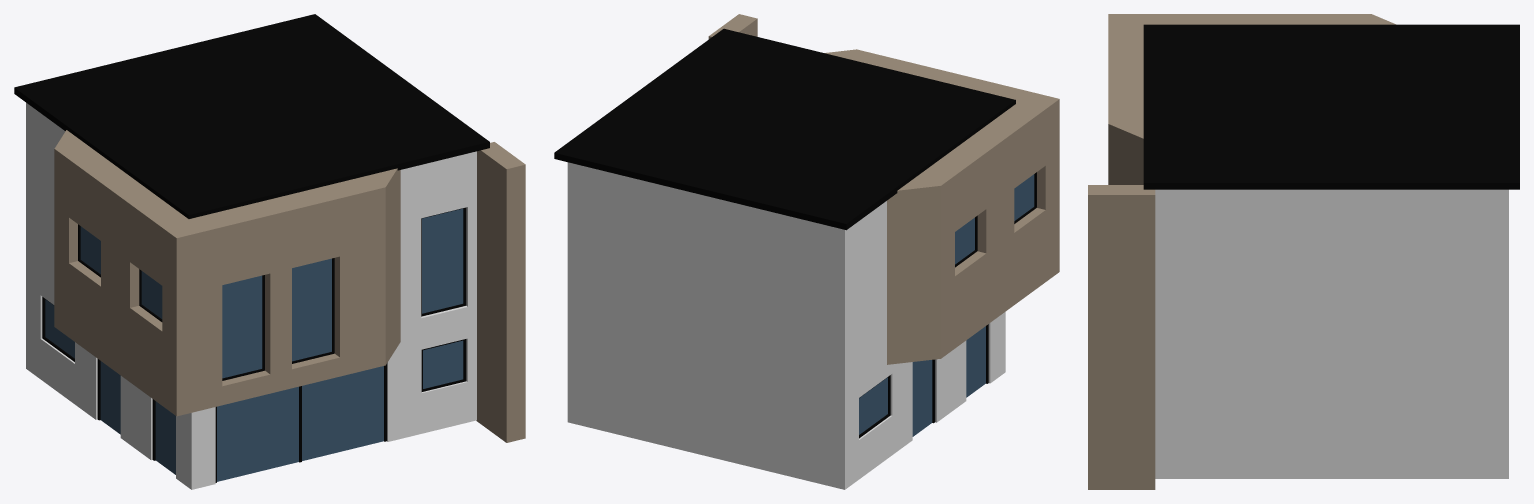
File: Modern4.fbx
The picture shows the model from 3 angles, left to right: view 1: azimuth 30°, elevation 25°; view 2: azimuth 150°, elevation 25°; view 3: azimuth 270°, elevation 25°; orthographic projection. The views are drawn at different scales.
Visible parts, largest first — view 1: Modern4_ConcreteG, Modern4_Roof, Modern4_Concrete, Modern4_Windows, Modern4_Frame; view 2: Modern4_Concrete, Modern4_Roof, Modern4_ConcreteG, Modern4_Windows, Modern4_Frame; view 3: Modern4_Concrete, Modern4_Roof, Modern4_ConcreteG.
Boxes of the visible parts, x1,y1,x2,y2 form: Modern4_ConcreteG: (54, 130, 525, 442); Modern4_Roof: (14, 14, 489, 218); Modern4_Concrete: (26, 102, 476, 489); Modern4_Windows: (45, 208, 463, 481); Modern4_Frame: (42, 207, 466, 482); Modern4_Concrete: (567, 162, 1005, 489); Modern4_Roof: (554, 28, 1015, 230); Modern4_ConcreteG: (708, 14, 1059, 364); Modern4_Windows: (859, 174, 1034, 436); Modern4_Frame: (859, 172, 1036, 438); Modern4_Concrete: (1155, 189, 1508, 478); Modern4_Roof: (1143, 24, 1519, 189); Modern4_ConcreteG: (1088, 14, 1395, 489).
Bounding box in the file's own units: 1019 × 803 × 1042.
